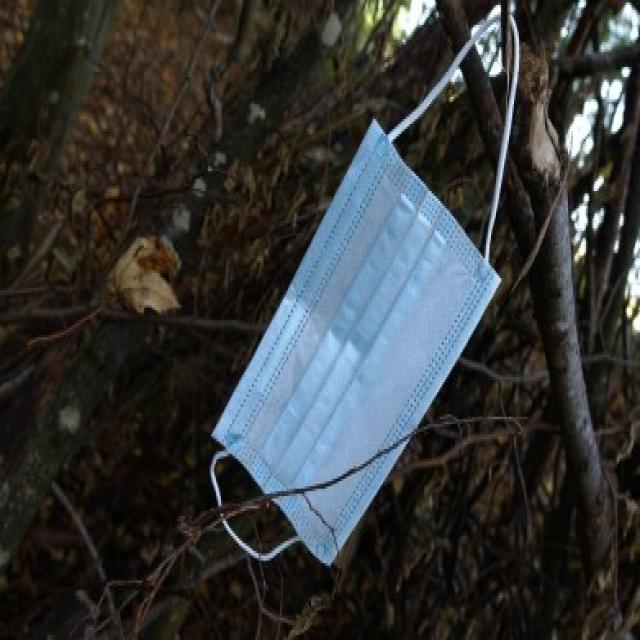non-organic waste: (206, 15, 524, 568)
